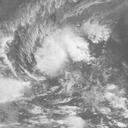cyclone: (35, 27, 91, 77)
